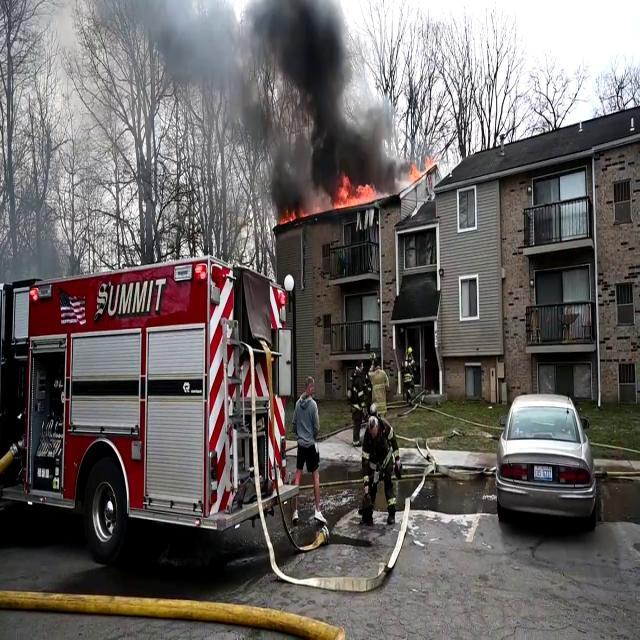Fire: (333, 176, 381, 210)
Smoke: (234, 0, 400, 203)
